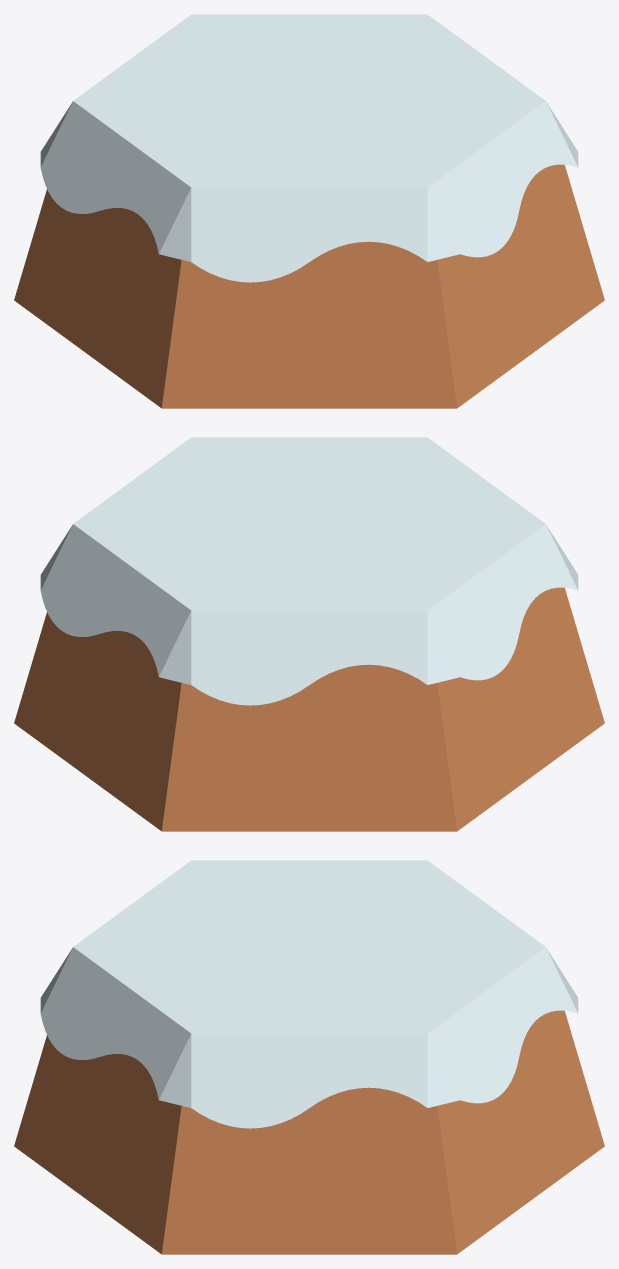
The model's file is blockSnowHexagonLow.dae.
3 renders of one model, top to bottom at view 1: azimuth 30°, elevation 25°; view 2: azimuth 150°, elevation 25°; view 3: azimuth 270°, elevation 25°, orthographic.
Visible parts, largest first — view 1: blockSnowHexagonLow; view 2: blockSnowHexagonLow; view 3: blockSnowHexagonLow.
Part boxes in pixels (x1=…): blockSnowHexagonLow: x1=14, y1=14, x2=604, y2=408; blockSnowHexagonLow: x1=14, y1=437, x2=604, y2=831; blockSnowHexagonLow: x1=14, y1=860, x2=604, y2=1254.
Bounding box in the file's own units: 1 × 0.4298 × 1.15.
